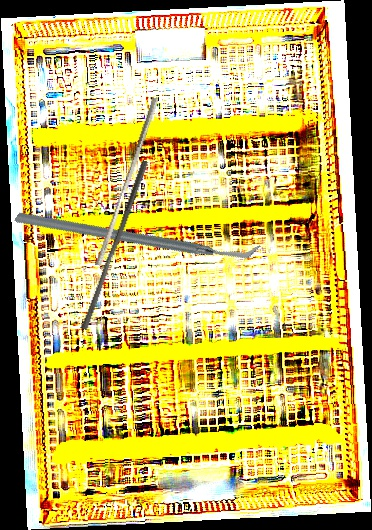Chopper: (14, 125, 262, 342)
Pusher: (80, 157, 149, 333), (94, 94, 159, 269)
